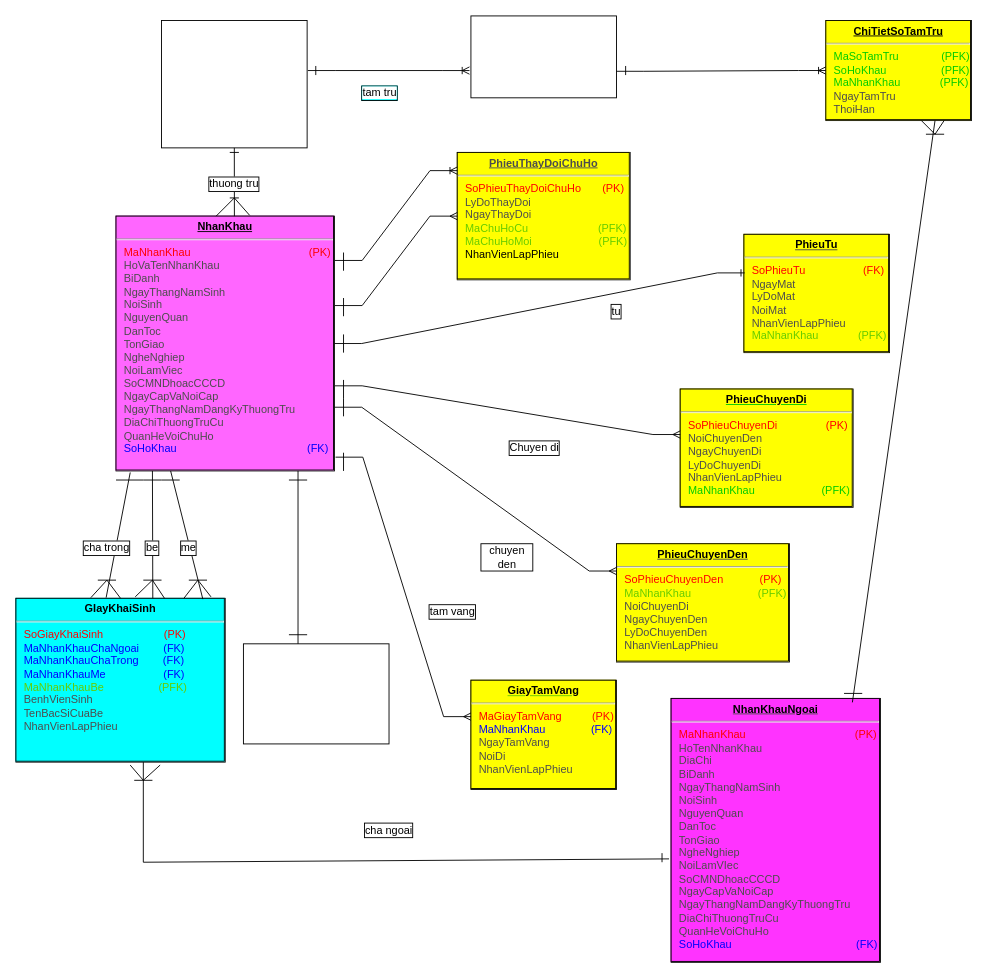
This 987x978 diagram has some shape labels left out. Here are the shapes that lost their labels. From the top down, the centre of each, then its label:
At pixel 543 56: "SoTamTru MaSoTamTru (PK) SoHoKhau (PFK) DiaChiThuongTru".
At pixel 234 84: "SoHoKhau SoHoKhau (PK) SoNha DuongPho(Ap) Phuong_Xa_ThiTran Quan_Huyen NgayCapSo".
At pixel 316 693: "CMND_CCCD SoCMND_CCCD (PK) NgayCap NoiCap MaNhanKhau (PFK)".
